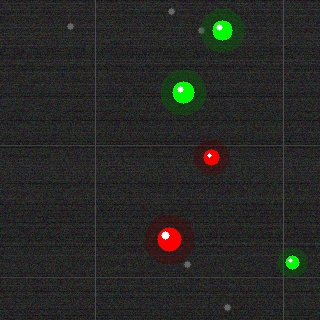green_normal: (170, 79, 196, 105), (210, 18, 234, 42), (283, 253, 301, 271)
red_fault: (155, 225, 183, 253), (201, 147, 221, 167)
